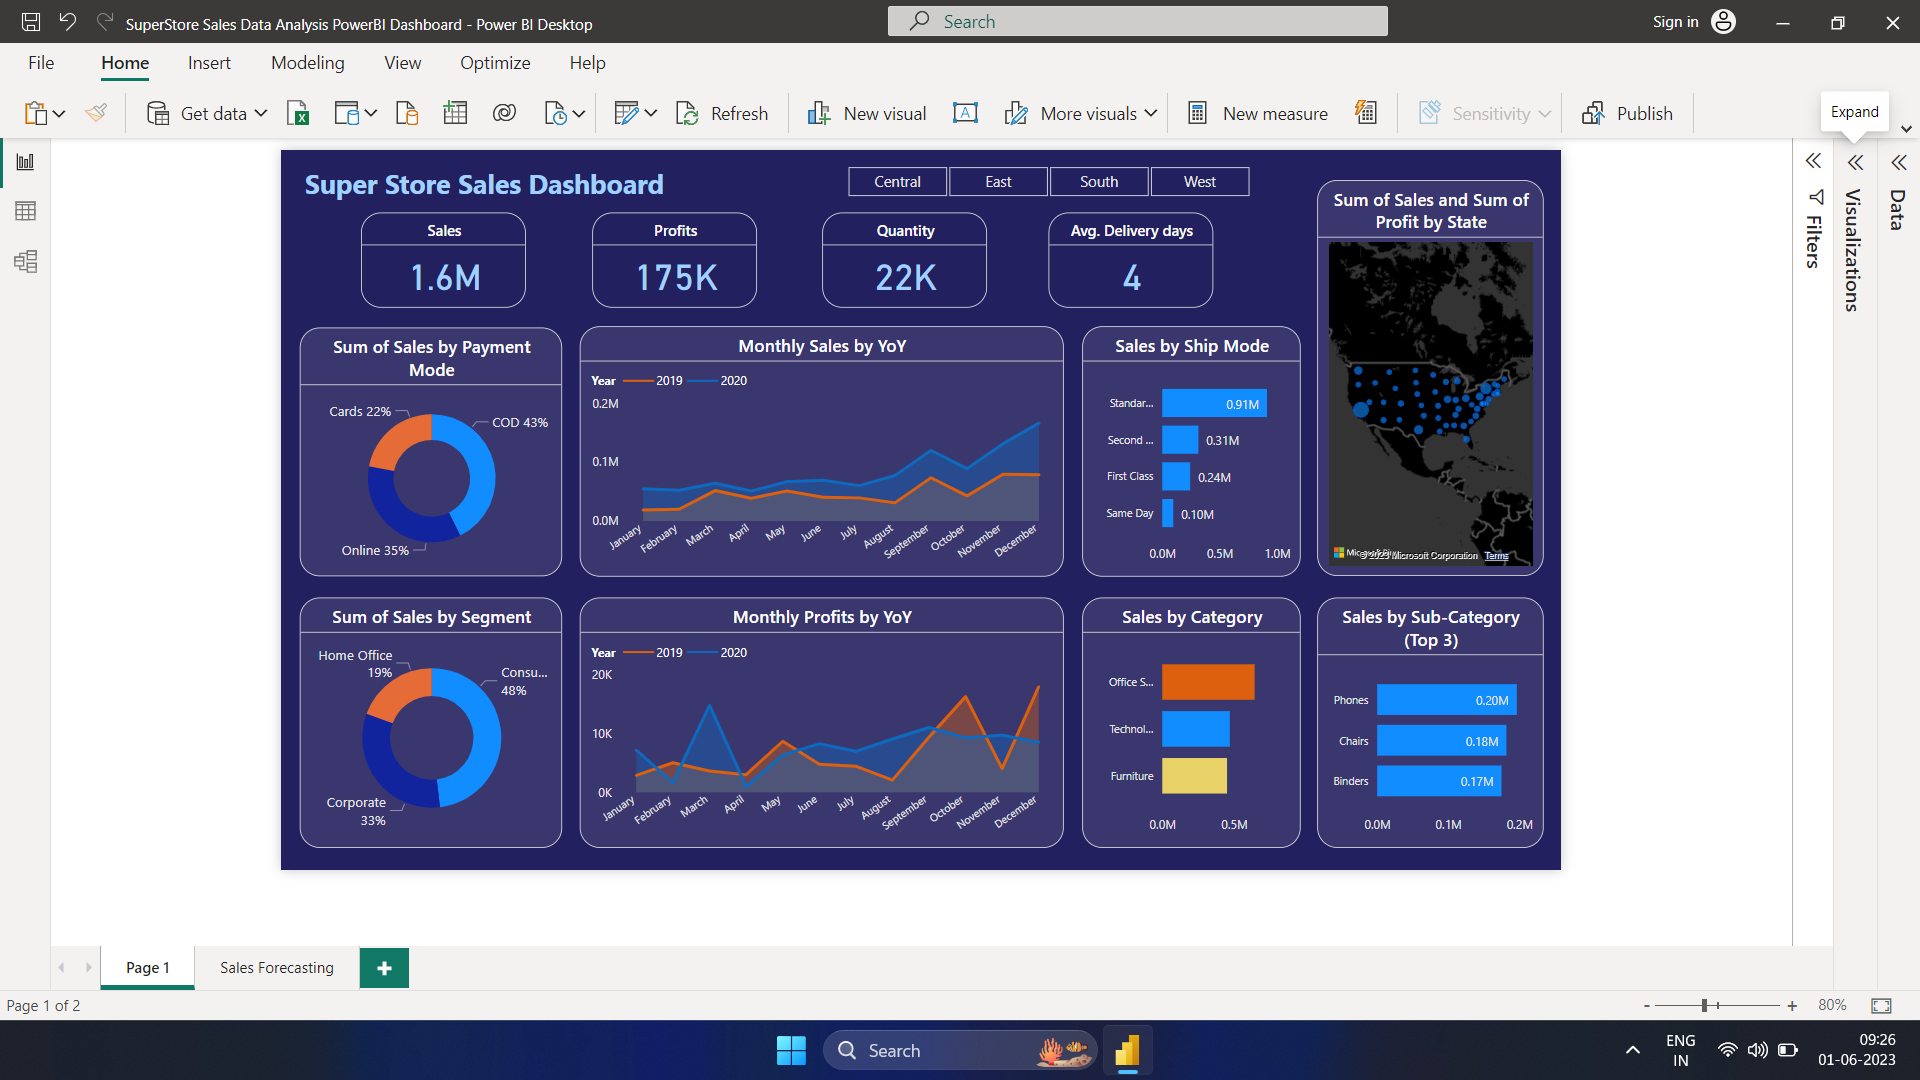

The dashboard page shown, as its layout file describes it:
{"tool":"powerbi","page":{"name":"Page 1","canvas":[1280,720],"ordinal":0},"visuals":[{"type":"barChart","title":"Sales by Category","fields":{"Category":["SuperStore_Sales_Dataset.Category"],"Y":["Sum(SuperStore_Sales_Dataset.Sales)"]},"box":[801.2,447.5,218.8,250],"z":0},{"type":"barChart","title":"Sales by Sub-Category (Top 3)","fields":{"Y":["Sum(SuperStore_Sales_Dataset.Sales)"],"Category":["SuperStore_Sales_Dataset.Sub-Category"]},"box":[1036.2,447.5,226.2,250],"z":1},{"type":"barChart","title":"Sales by Ship Mode","fields":{"Y":["Sum(SuperStore_Sales_Dataset.Sales)"],"Category":["SuperStore_Sales_Dataset.Ship Mode"]},"box":[801.2,176.2,218.8,250],"z":2},{"type":"areaChart","title":"Monthly Sales by YoY","fields":{"Category":["SuperStore_Sales_Dataset.Order Date.Variation.Date Hierarchy.Month"],"Y":["Sum(SuperStore_Sales_Dataset.Sales)"],"Series":["SuperStore_Sales_Dataset.Order Date.Variation.Date Hierarchy.Year"]},"box":[298.8,176.2,483.8,250],"z":3},{"type":"areaChart","title":"Monthly Profits by YoY","fields":{"Category":["SuperStore_Sales_Dataset.Order Date.Variation.Date Hierarchy.Month"],"Series":["SuperStore_Sales_Dataset.Order Date.Variation.Date Hierarchy.Year"],"Y":["Sum(SuperStore_Sales_Dataset.Profit)"]},"box":[298.8,447.5,483.8,250],"z":4},{"type":"map","fields":{"Category":["SuperStore_Sales_Dataset.State"],"Size":["Sum(SuperStore_Sales_Dataset.Sales)"]},"box":[1036.2,30,226.2,396.2],"z":5},{"type":"donutChart","fields":{"Y":["Sum(SuperStore_Sales_Dataset.Sales)"],"Category":["SuperStore_Sales_Dataset.Payment Mode"]},"box":[18.8,177.5,262.5,248.8],"z":6},{"type":"donutChart","fields":{"Y":["Sum(SuperStore_Sales_Dataset.Sales)"],"Category":["SuperStore_Sales_Dataset.Segment"]},"box":[18.8,447.5,262.5,250],"z":7},{"type":"slicer","fields":{"Values":["SuperStore_Sales_Dataset.Region"]},"box":[541.2,10,451.2,42.5],"z":8},{"type":"textbox","box":[18.8,10,473.8,62.5],"z":9},{"type":"card","title":"Sales","fields":{"Values":["Sum(SuperStore_Sales_Dataset.Sales)"]},"box":[80,62.5,165,95],"z":10},{"type":"card","title":"Profits","fields":{"Values":["Sum(SuperStore_Sales_Dataset.Profit)"]},"box":[311.2,62.5,165,95],"z":11},{"type":"card","title":"Quantity","fields":{"Values":["Sum(SuperStore_Sales_Dataset.Quantity)"]},"box":[541.2,62.5,165,95],"z":12},{"type":"card","title":"Avg. Delivery days","fields":{"Values":["Avg(SuperStore_Sales_Dataset.Avg Delivery Time)"]},"box":[767.5,62.5,165,95],"z":13}]}

Visuals, with their boxes on the page's 1280x720 design canvas (x1, y1, x2, y2). These are canvas units, not pixel positions in the 1920x1080 screenshot, which may show the page scaled, cropped or inside an application window:
"Sales by Category" barChart: 801, 448, 1020, 698
"Sales by Sub-Category (Top 3)" barChart: 1036, 448, 1262, 698
"Sales by Ship Mode" barChart: 801, 176, 1020, 426
"Monthly Sales by YoY" areaChart: 299, 176, 783, 426
"Monthly Profits by YoY" areaChart: 299, 448, 783, 698
map - SuperStore_Sales_Dataset.State x Sum(SuperStore_Sales_Dataset.Sales): 1036, 30, 1262, 426
donutChart - Sum(SuperStore_Sales_Dataset.Sales) x SuperStore_Sales_Dataset.Payment Mode: 19, 178, 281, 426
donutChart - Sum(SuperStore_Sales_Dataset.Sales) x SuperStore_Sales_Dataset.Segment: 19, 448, 281, 698
slicer - SuperStore_Sales_Dataset.Region: 541, 10, 992, 52
textbox: 19, 10, 493, 72
"Sales" card: 80, 62, 245, 158
"Profits" card: 311, 62, 476, 158
"Quantity" card: 541, 62, 706, 158
"Avg. Delivery days" card: 768, 62, 932, 158
